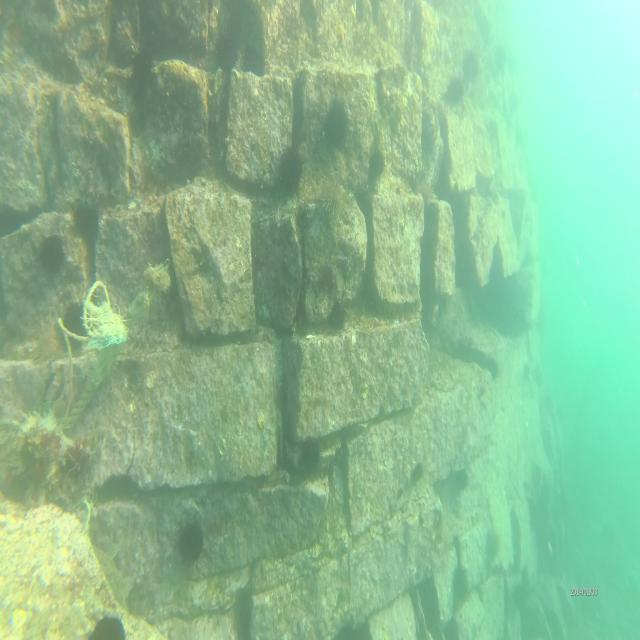echinus: (62, 300, 92, 353), (325, 94, 348, 154), (278, 148, 304, 200), (178, 518, 204, 566), (317, 180, 343, 224), (299, 433, 322, 482), (40, 232, 63, 281), (87, 612, 127, 640), (215, 27, 238, 75), (76, 201, 100, 242), (452, 564, 471, 608), (442, 74, 465, 110), (460, 46, 480, 82), (366, 146, 386, 182), (242, 42, 264, 74), (483, 530, 503, 565), (414, 180, 433, 210)
